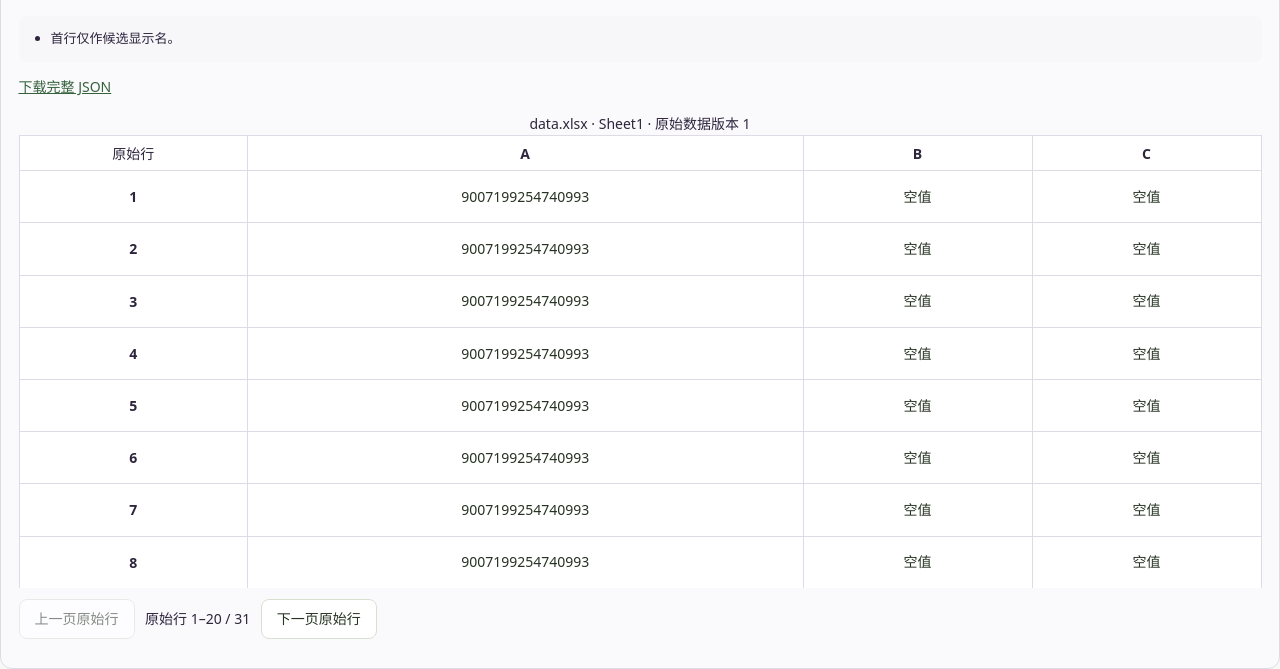
Test case: reads rows 21 through 31 and displays shared follower evidence without inventing formula text
(page scrolled)
Check: the button named "查看单元格 A1 来源" is shown, box x1=254 y1=177 x2=797 y2=217
What coordinates should you click on to do the following:
click the button "下一页原始行"
I would click on:
 (319, 619)
Its box is x1=261 y1=599 x2=377 y2=639.
(page scrolled)
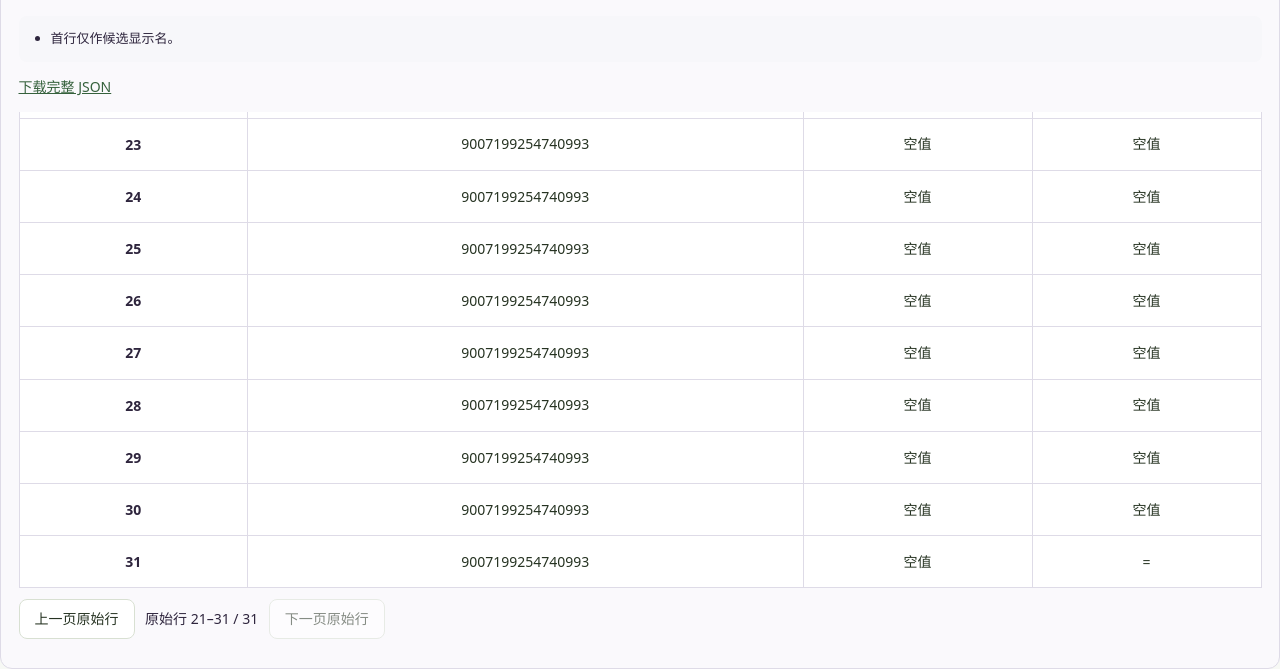
What coordinates should you click on to do the following:
click the button named "查看单元格 C31 来源"
I would click on:
 (1146, 562)
Its box is x1=1038 y1=542 x2=1255 y2=582.
(page scrolled)
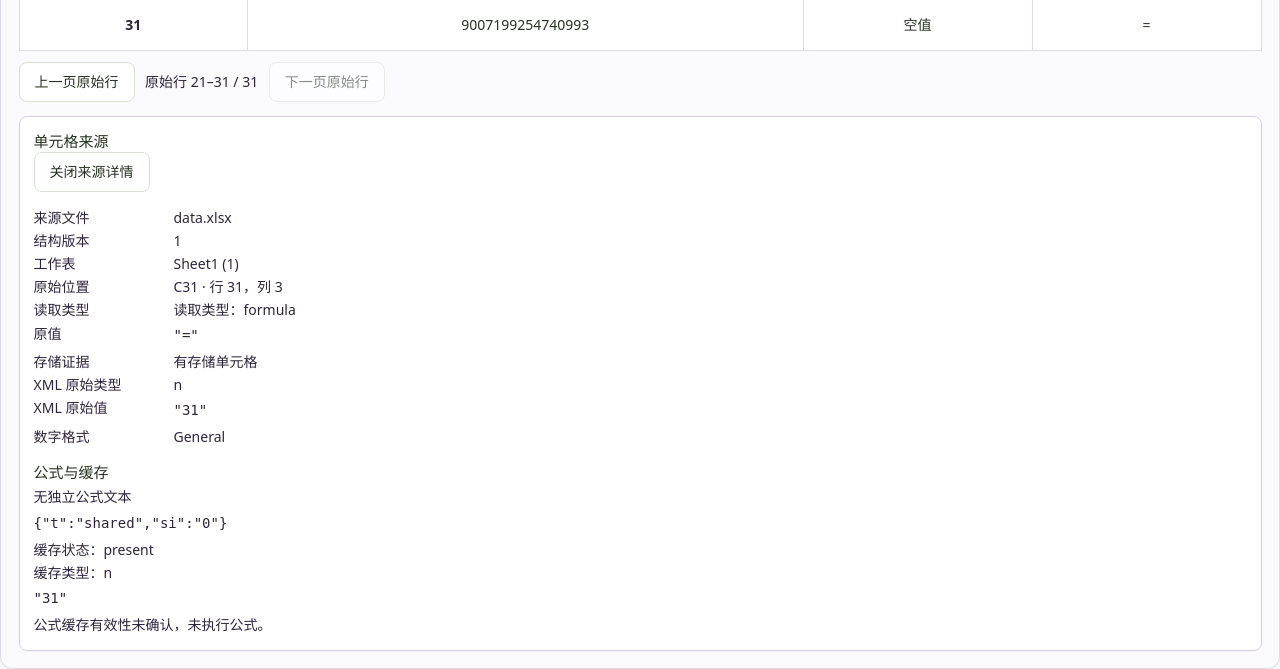
Check: the text "无独立公式文本" is shown, box x1=34 y1=489 x2=132 y2=505
Check: the text "{\"t\":\"shared\",\"si\":\"0\"}" is shown, box x1=34 y1=515 x2=227 y2=531
Check: the text "\"31\"" is shown 2 times, box x1=174 y1=402 x2=207 y2=418; x1=34 y1=590 x2=67 y2=606
